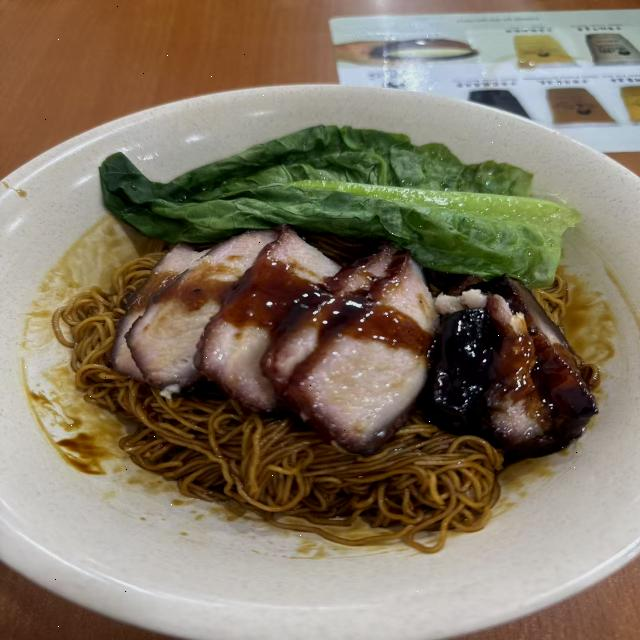Wantan Mee: (20, 100, 622, 564)
